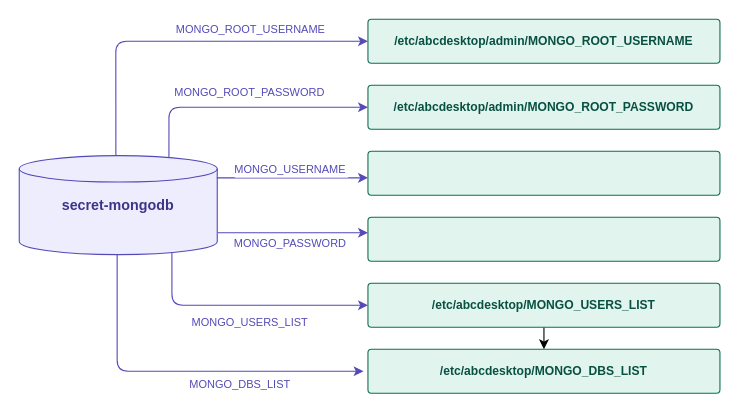
This 739x413 diagram has some shape labels left out. Each missing label, with the centre of its shape:
"/etc/abcdesktop/MONGO_PASSWORD" belongs at (x=543, y=238).
"/etc/abcdesktop/MONGO_USERNAME" belongs at (x=543, y=172).
